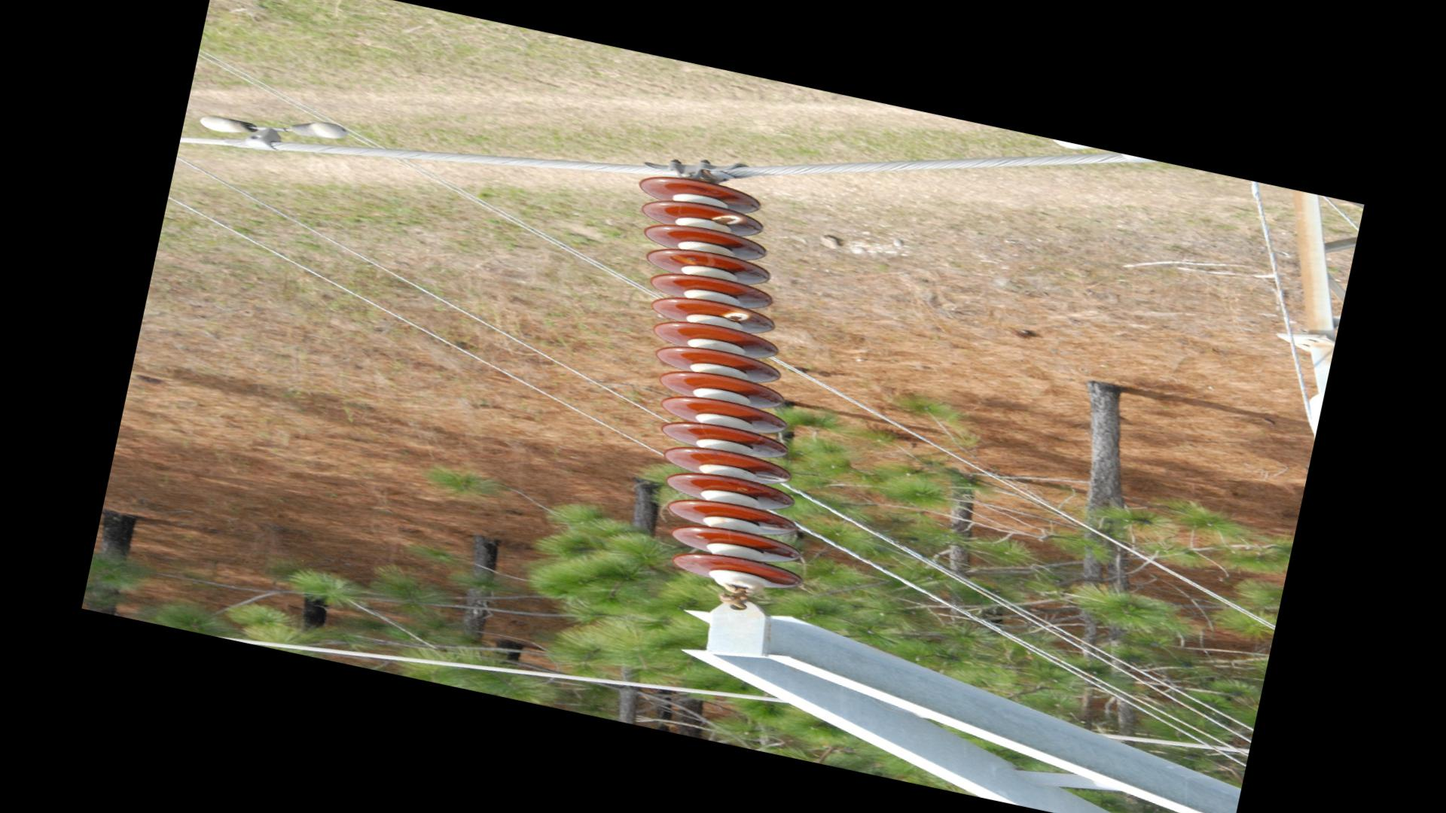damper: (193, 93, 354, 172)
